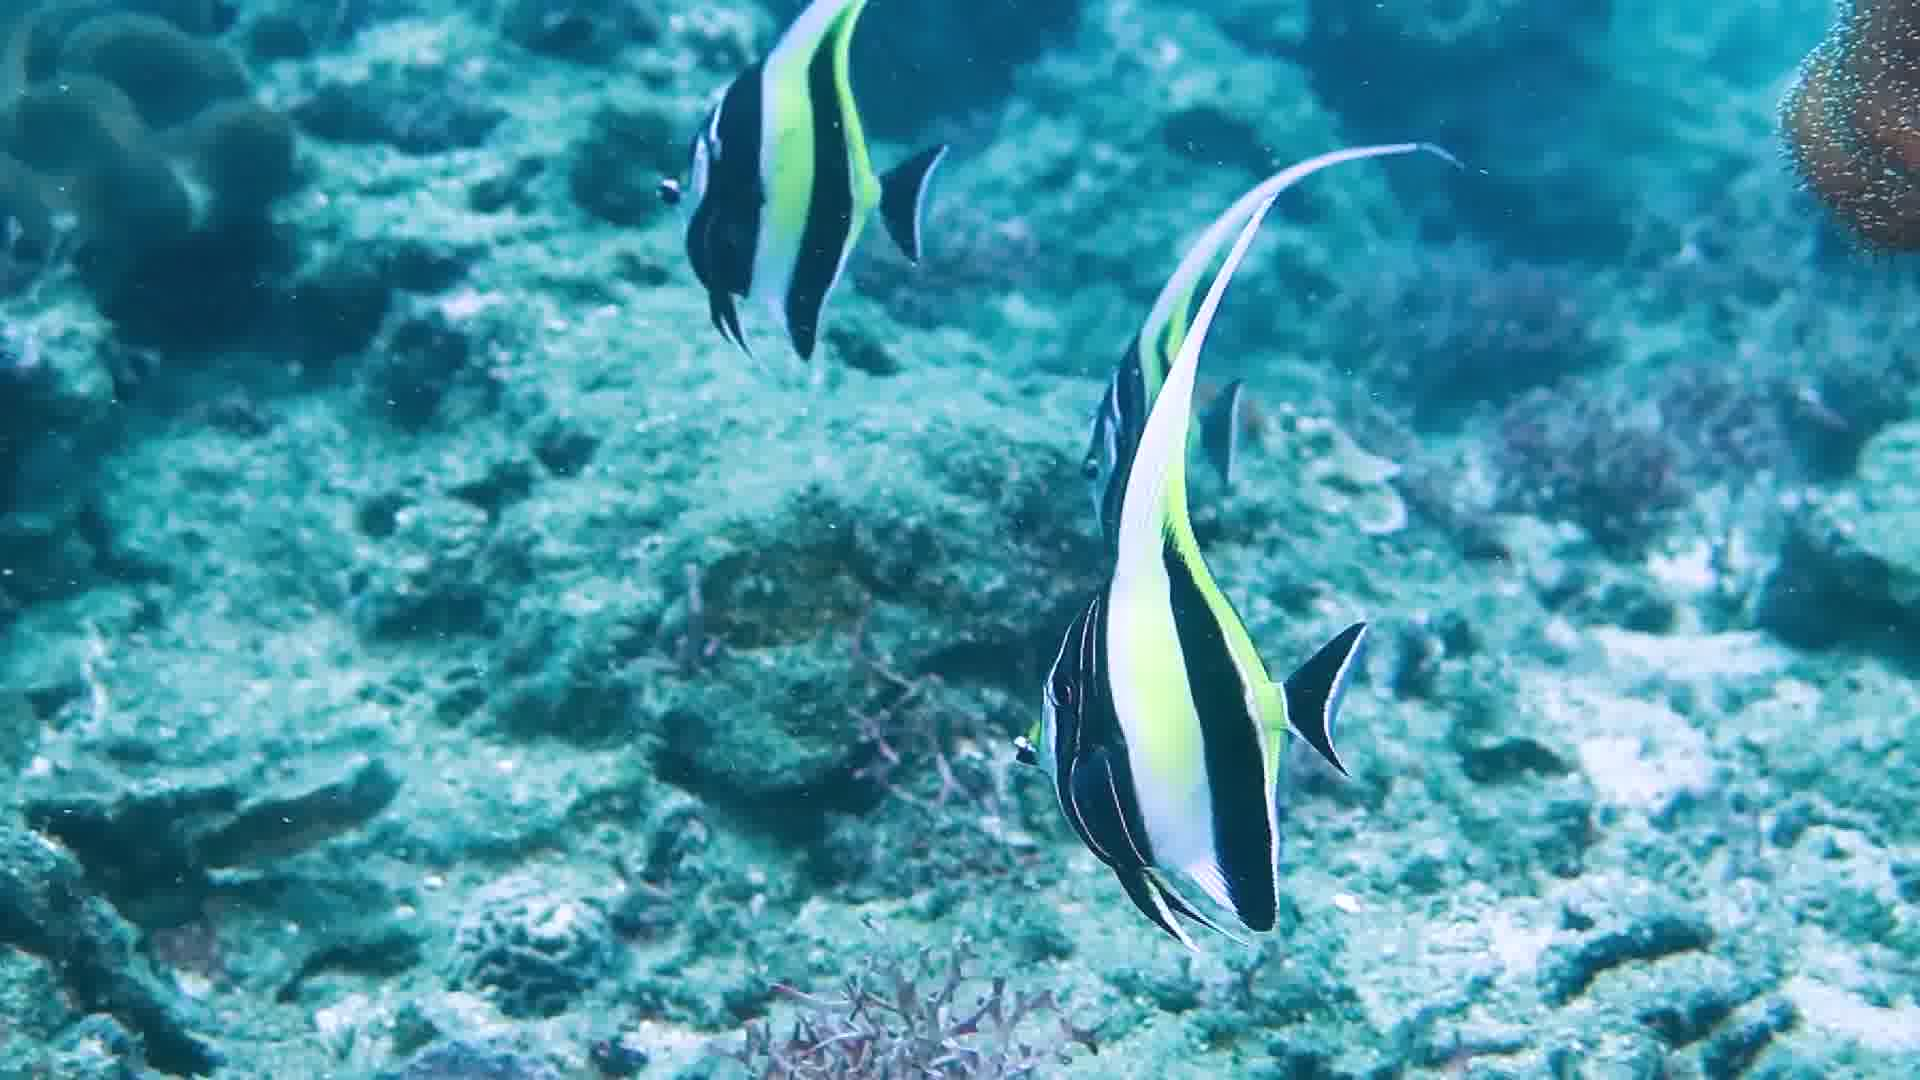Zanclus cornutus: (1031, 477, 1371, 928), (629, 47, 940, 367)
